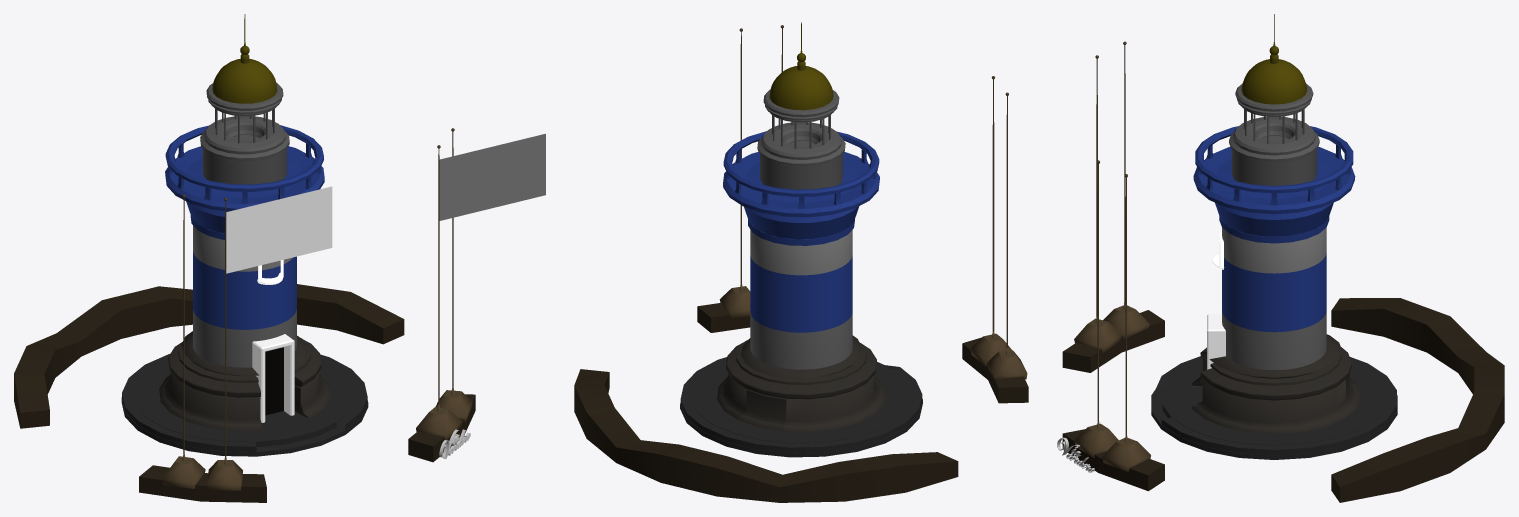
The model's file is asset.glb.
The picture shows the model from 3 angles, left to right: view 1: azimuth 30°, elevation 25°; view 2: azimuth 150°, elevation 25°; view 3: azimuth 270°, elevation 25°; orthographic projection. The views are drawn at different scales.
Visible parts, largest first — view 1: outside_shape, main_body, main_bottom, pPlane1, pPlane2, bottom_row1, polySurface2, bottom_row_connector, door, pSphere1, balcony_center_body, balcony_hand_rail (+8 smaller); view 2: outside_shape, main_body, main_bottom, bottom_row1, polySurface2, bottom_row_connector, main_top1, pSphere1, balcony_hand_rail, balcony_center_body, balcony_row1, pasted__pCone2 (×2) (+7 smaller); view 3: outside_shape, main_body, main_bottom, bottom_row1, polySurface2, bottom_row_connector, main_top1, pSphere1, balcony_center_body, balcony_hand_rail, balcony_row1, pasted__pCone2 (×2) (+11 smaller).
Part boxes in pixels (left/top/right/bottom): outside_shape: left=14, top=284, right=475, bottom=502; main_body: left=193, top=225, right=296, bottom=367; main_bottom: left=159, top=331, right=330, bottom=430; pPlane1: left=226, top=186, right=332, bottom=273; pPlane2: left=439, top=133, right=545, bottom=220; bottom_row1: left=132, top=360, right=356, bottom=446; polySurface2: left=165, top=146, right=324, bottom=211; bottom_row_connector: left=122, top=354, right=367, bottom=451; door: left=252, top=334, right=294, bottom=422; pSphere1: left=212, top=59, right=277, bottom=103; balcony_center_body: left=202, top=134, right=286, bottom=184; balcony_hand_rail: left=165, top=125, right=323, bottom=191; outside_shape: left=574, top=303, right=1028, bottom=502; main_body: left=750, top=230, right=852, bottom=369; main_bottom: left=717, top=335, right=885, bottom=431; bottom_row1: left=691, top=362, right=911, bottom=443; polySurface2: left=723, top=152, right=879, bottom=217; bottom_row_connector: left=680, top=357, right=922, bottom=452; main_top1: left=744, top=206, right=858, bottom=239; pSphere1: left=769, top=66, right=833, bottom=110; balcony_hand_rail: left=723, top=131, right=879, bottom=196; balcony_center_body: left=760, top=140, right=842, bottom=189; balcony_row1: left=761, top=122, right=841, bottom=159; pasted__pCone2 (×2): left=719, top=286, right=1027, bottom=379; outside_shape: left=1062, top=298, right=1504, bottom=502; main_body: left=1222, top=227, right=1326, bottom=369; main_bottom: left=1192, top=334, right=1360, bottom=433; bottom_row1: left=1162, top=361, right=1386, bottom=445; polySurface2: left=1193, top=146, right=1355, bottom=214; bottom_row_connector: left=1155, top=356, right=1396, bottom=455; main_top1: left=1215, top=202, right=1333, bottom=236; pSphere1: left=1241, top=59, right=1307, bottom=104; balcony_center_body: left=1231, top=135, right=1316, bottom=185; balcony_hand_rail: left=1195, top=126, right=1353, bottom=193; balcony_row1: left=1233, top=117, right=1315, bottom=155; pasted__pCone2 (×2): left=1102, top=305, right=1150, bottom=471.
Size of the model in its own units: 30.25 by 27.89 by 28.68.
